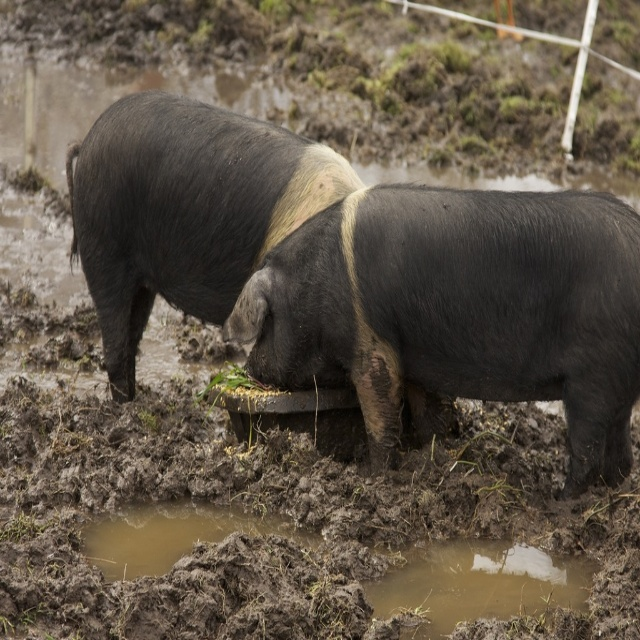Pig: (222, 179, 640, 501), (65, 90, 366, 407)
